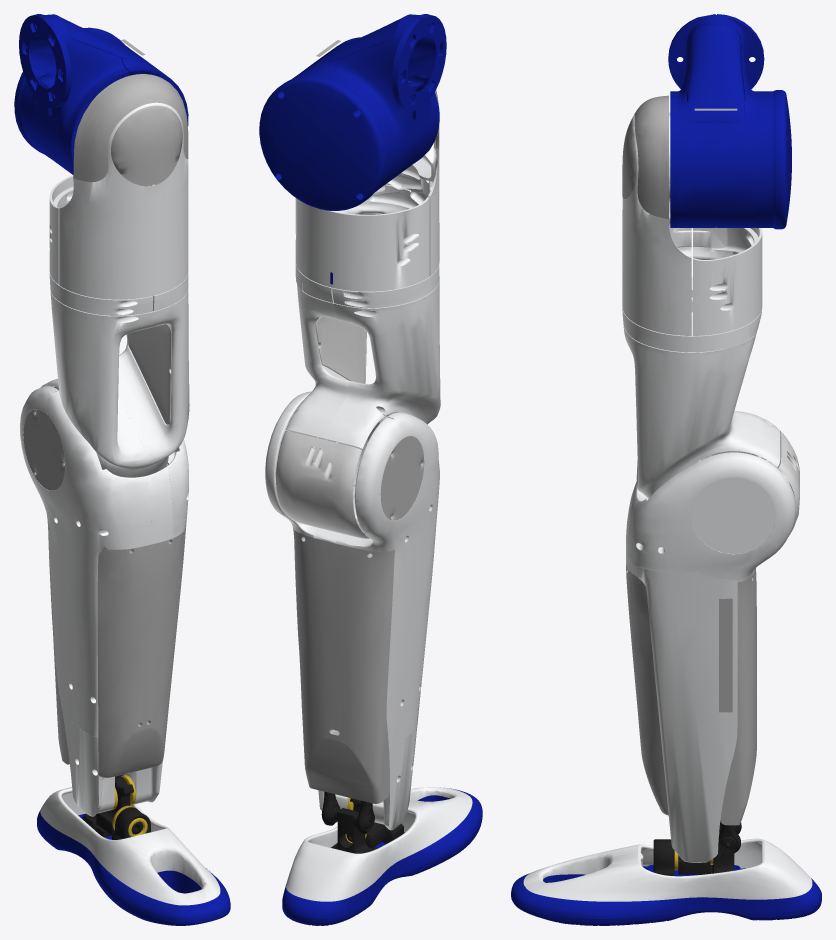
Rendered from rp1-single-leg-product-white.glb.
3 views of the same model, side by side, from view 1: azimuth 30°, elevation 25°; view 2: azimuth 150°, elevation 25°; view 3: azimuth 270°, elevation 25° (orthographic). The views are drawn at different scales.
Parts seen in each view (by area): view 1: leg-2.007, leg-1.001, leg-2.011, leg-4.007, kuan&leg-Re.003, foot-2, leg-1.009, leg-1.010, foot-1, leg-3.008, leg-4.006, leg-2.010 (+13 smaller); view 2: leg-1.008, leg-2.007, leg-1.012, leg-4.007, 局部修改补充-0916.001, kuan&leg-Re.003, foot-2, leg-5.002, foot-1, leg-1.009, leg-2.011, leg-3.006 (+10 smaller); view 3: leg-3.005, leg-2.008, leg-1.009, foot-2, leg-3.009, leg-2.011, foot-1, 局部修改补充-0916.001, leg-1.008, leg-2.012, leg-1.001, leg-1.010 (+10 smaller).
Boxes of the visible parts, bbox=[...] form: leg-2.007: bbox=[20, 386, 151, 737]; leg-1.001: bbox=[97, 531, 185, 777]; leg-2.011: bbox=[59, 102, 188, 299]; leg-4.007: bbox=[40, 291, 153, 477]; kuan&leg-Re.003: bbox=[19, 14, 129, 174]; foot-2: bbox=[40, 787, 220, 905]; leg-1.009: bbox=[118, 290, 189, 477]; leg-1.010: bbox=[73, 74, 188, 182]; foot-1: bbox=[37, 810, 230, 925]; leg-3.008: bbox=[111, 105, 182, 186]; leg-4.006: bbox=[63, 716, 114, 816]; leg-2.010: bbox=[127, 324, 171, 424]; leg-1.008: bbox=[293, 528, 395, 803]; leg-2.007: bbox=[335, 412, 439, 749]; leg-1.012: bbox=[259, 75, 386, 210]; leg-4.007: bbox=[322, 279, 440, 448]; 局部修改补充-0916.001: bbox=[295, 197, 429, 291]; kuan&leg-Re.003: bbox=[336, 14, 446, 187]; foot-2: bbox=[286, 787, 472, 901]; leg-5.002: bbox=[276, 431, 369, 538]; foot-1: bbox=[282, 787, 482, 925]; leg-1.009: bbox=[285, 284, 376, 486]; leg-2.011: bbox=[335, 138, 439, 275]; leg-3.006: bbox=[380, 436, 423, 520]; leg-3.005: bbox=[626, 493, 737, 862]; leg-2.008: bbox=[627, 452, 795, 582]; leg-1.009: bbox=[623, 326, 780, 498]; foot-2: bbox=[523, 838, 812, 901]; leg-3.009: bbox=[670, 91, 755, 227]; leg-2.011: bbox=[622, 112, 691, 335]; foot-1: bbox=[511, 864, 821, 925]; 局部修改补充-0916.001: bbox=[693, 227, 762, 335]; leg-1.008: bbox=[720, 568, 756, 825]; leg-2.012: bbox=[687, 24, 745, 122]; leg-1.001: bbox=[626, 564, 668, 815]; leg-1.010: bbox=[634, 95, 669, 219].
Size of the model in its own units: 0.1165 by 0.7626 by 0.2498.
